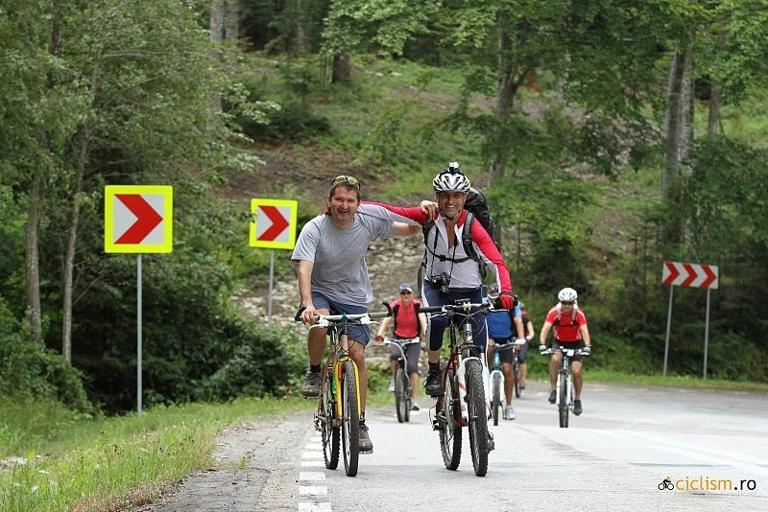non-vehicle: (414, 295, 517, 475), (294, 300, 392, 476), (372, 333, 425, 423), (538, 346, 589, 427), (480, 341, 525, 425), (512, 337, 527, 398)
